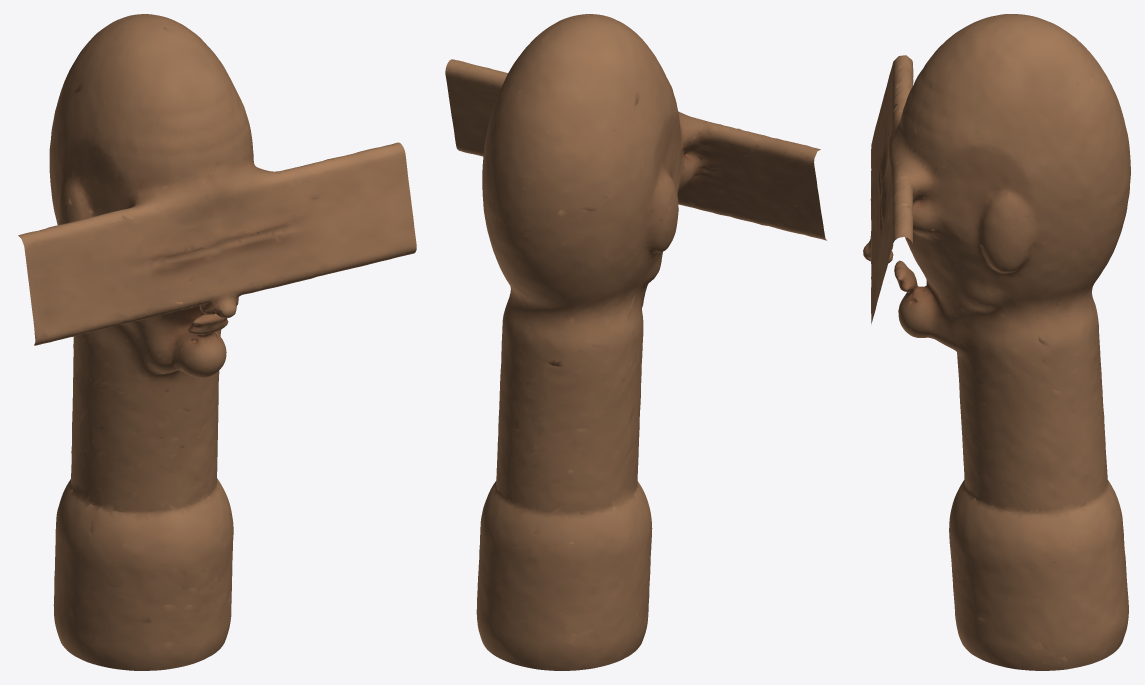
The model's file is akbaba_skin.glb.
3 renders of one model, left to right at view 1: azimuth 30°, elevation 25°; view 2: azimuth 150°, elevation 25°; view 3: azimuth 270°, elevation 25°, orthographic. The views are drawn at different scales.
Visible parts, largest first — view 1: geometry_0; view 2: geometry_0; view 3: geometry_0.
Boxes of the visible parts, <box> form: geometry_0: <box>18,14,416,670</box>; geometry_0: <box>445,14,826,670</box>; geometry_0: <box>863,14,1130,670</box>.
Bounding box in the file's own units: 0.2916 × 0.4584 × 0.1812.
